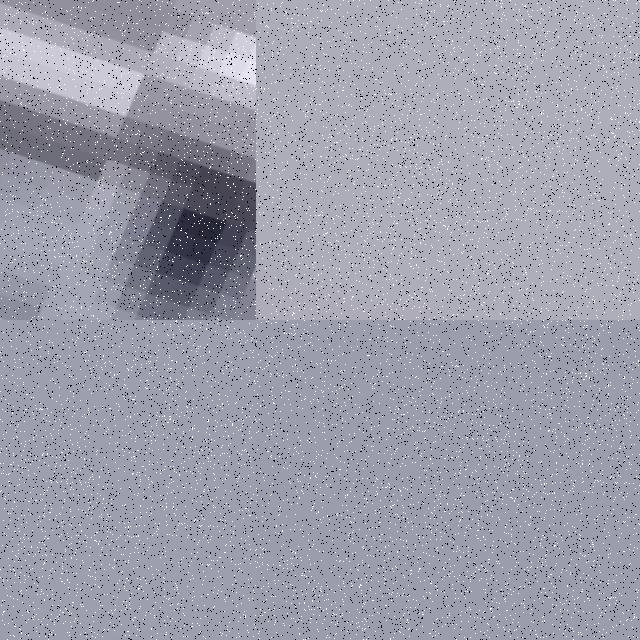drone: (0, 0, 256, 320)
